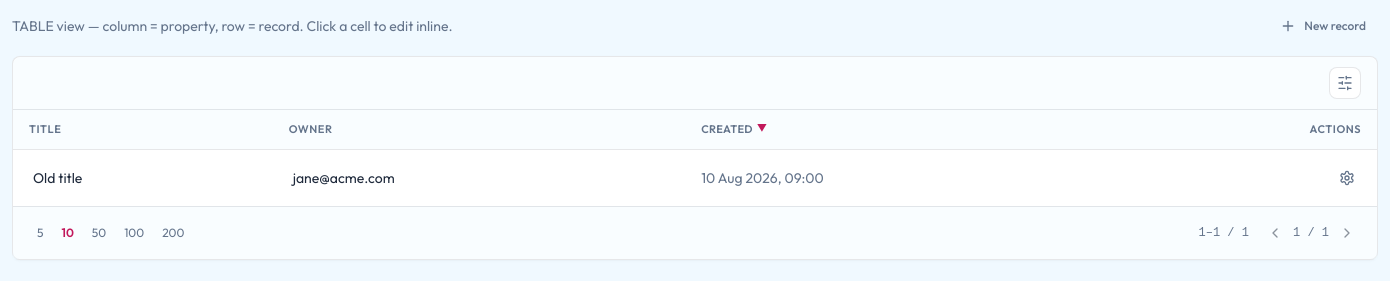
RecordTable inline edit › cancels the edit with Escape without sending anything
Click the button "Old title".
click(58, 178)  # box x1=29 y1=168 x2=86 y2=188
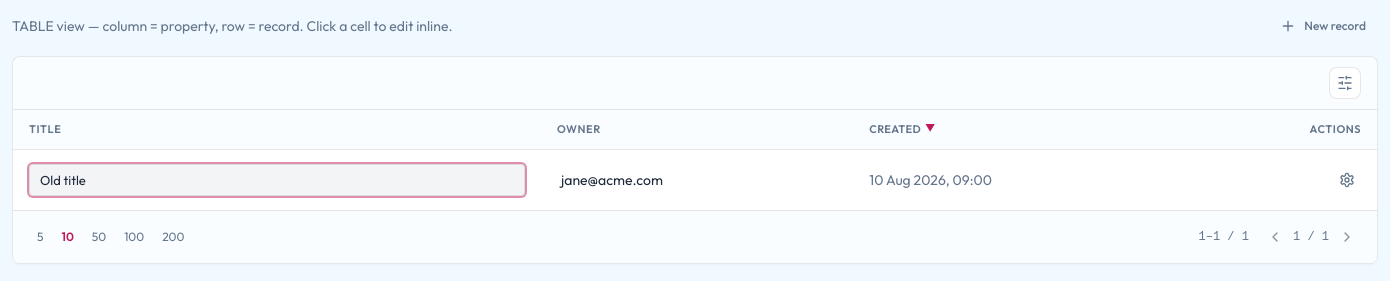
Replace the text in the field with "Discarded" at (277, 180), box x1=29 y1=164 x2=525 y2=196
Then press Escape
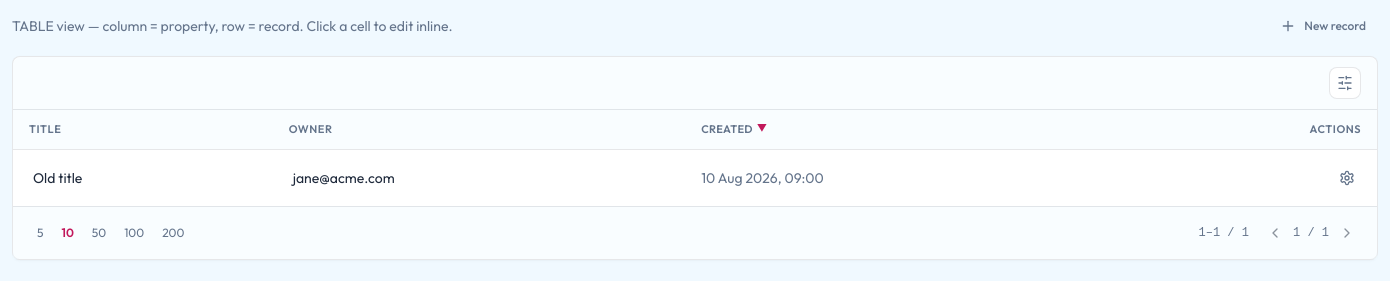
Expected: the field is gone
